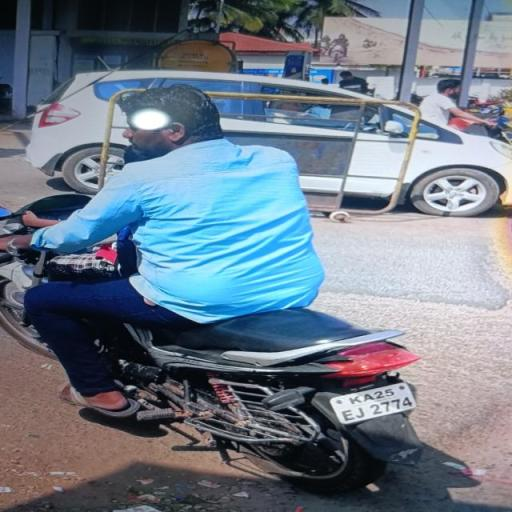bike: (8, 83, 421, 488)
numberplate: (326, 372, 420, 433)
withouthelmet: (124, 88, 214, 148)
